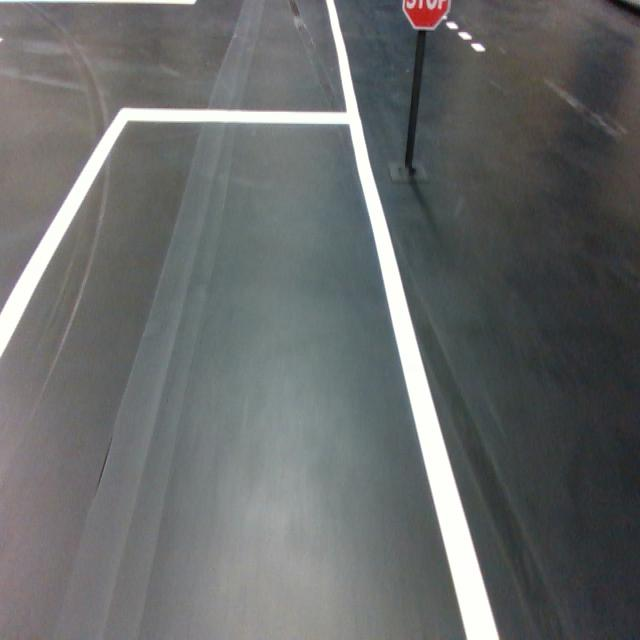stop-sign: (401, 0, 452, 31)
